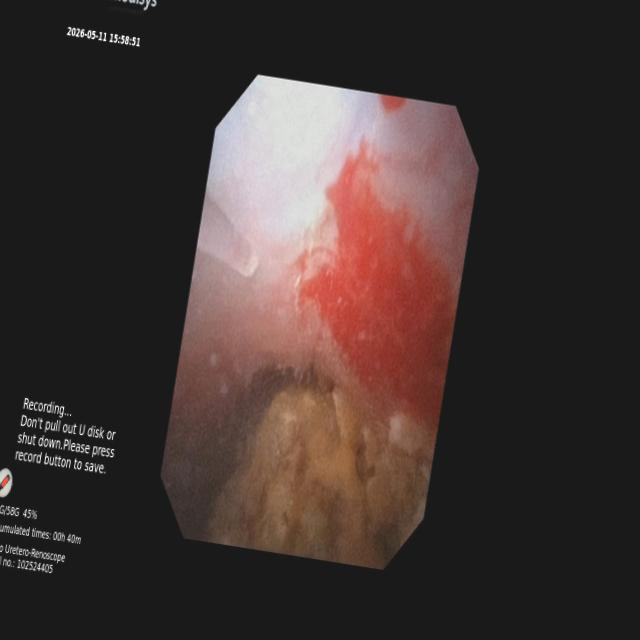laser-fibre: (197, 189, 259, 276)
stone-new: (208, 379, 434, 567)
